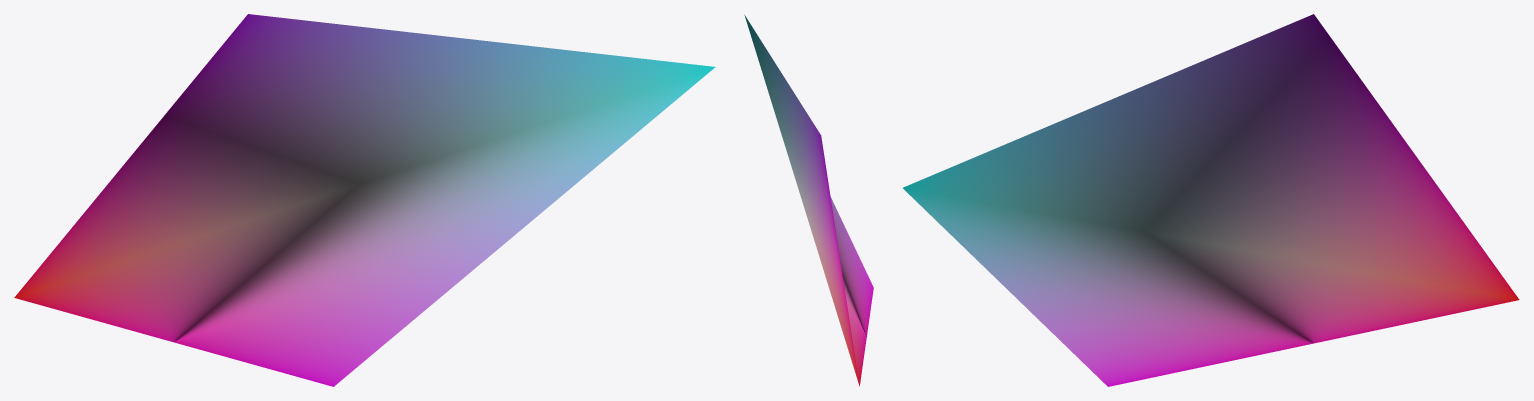
3 renders of one model, left to right at view 1: azimuth 30°, elevation 25°; view 2: azimuth 150°, elevation 25°; view 3: azimuth 270°, elevation 25°, orthographic. The views are drawn at different scales.
Size of the model in its own units: 1.5 by 1 by 1.5.
